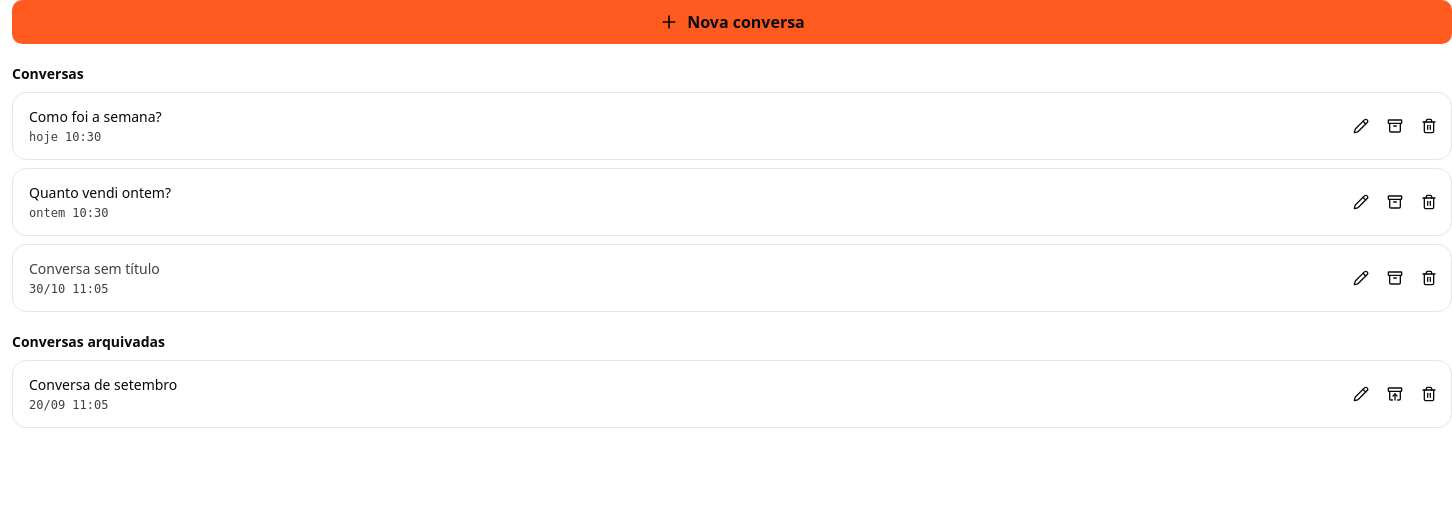
Test: lista de conversas do mentor: excluir › excluir pede confirmação avisando dos 60 dias
Click the button named "Excluir a conversa \"Quanto vendi ontem?\"": (1429, 202) [1413,186,1445,218]
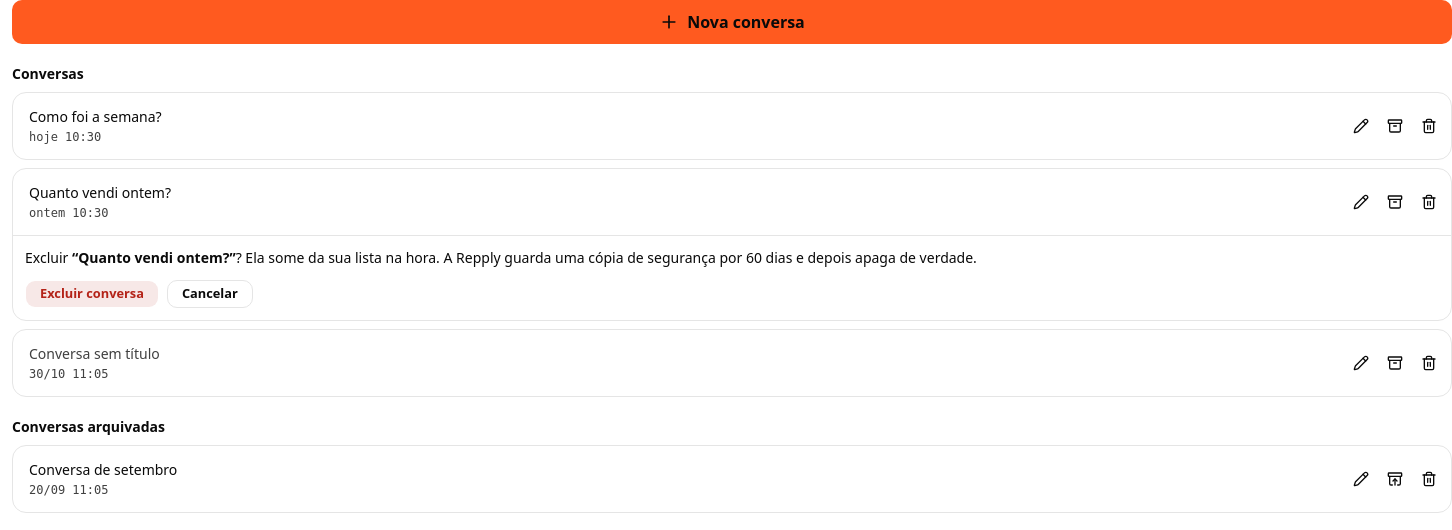
Expected: the text "60 dias" shows "some da sua lista", [236,248,977,267]
Expected: the button "Excluir conversa" is shown, [25,280,159,308]
